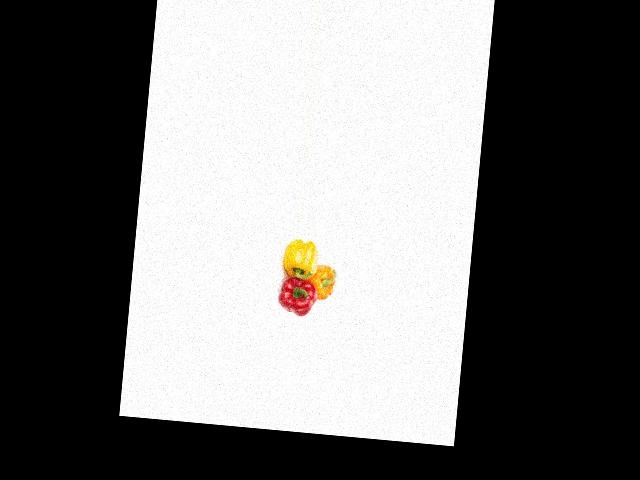bell_pepper: (278, 237, 320, 278)
